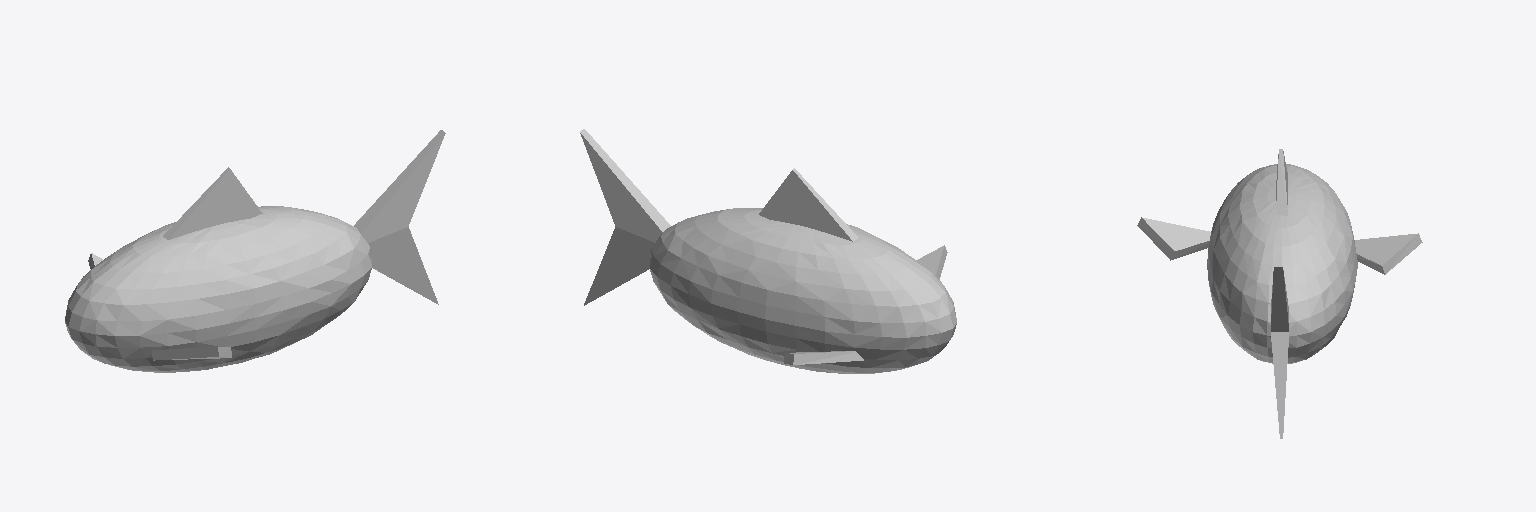
File: fish5.obj
3 renders of one model, left to right at view 1: azimuth 30°, elevation 25°; view 2: azimuth 150°, elevation 25°; view 3: azimuth 270°, elevation 25°, orthographic.
Parts seen in each view (by area): view 1: Sphere001, Line001, Line002, NGon001; view 2: Sphere001, Line001, Line002, NGon002; view 3: Sphere001, Line001, NGon001, NGon002, Line002.
Part boxes in pixels (x1,y1,x2,y2): Sphere001: (65,206,371,372); Line001: (354,130,445,304); Line002: (163,167,262,239); NGon001: (152,347,231,360); Sphere001: (650,208,956,373); Line001: (580,129,670,305); Line002: (759,168,858,241); NGon002: (784,351,863,364); Sphere001: (1207,164,1357,363); Line001: (1271,267,1288,438); NGon001: (1137,217,1210,260); NGon002: (1355,233,1422,274); Line002: (1276,149,1287,215).
Bounding box in the file's own units: 4.14 × 1.99 × 2.74.